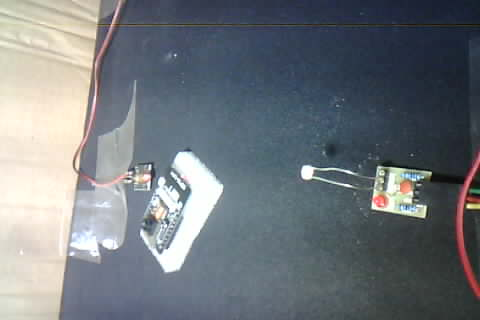esp32: (139, 150, 212, 263)
